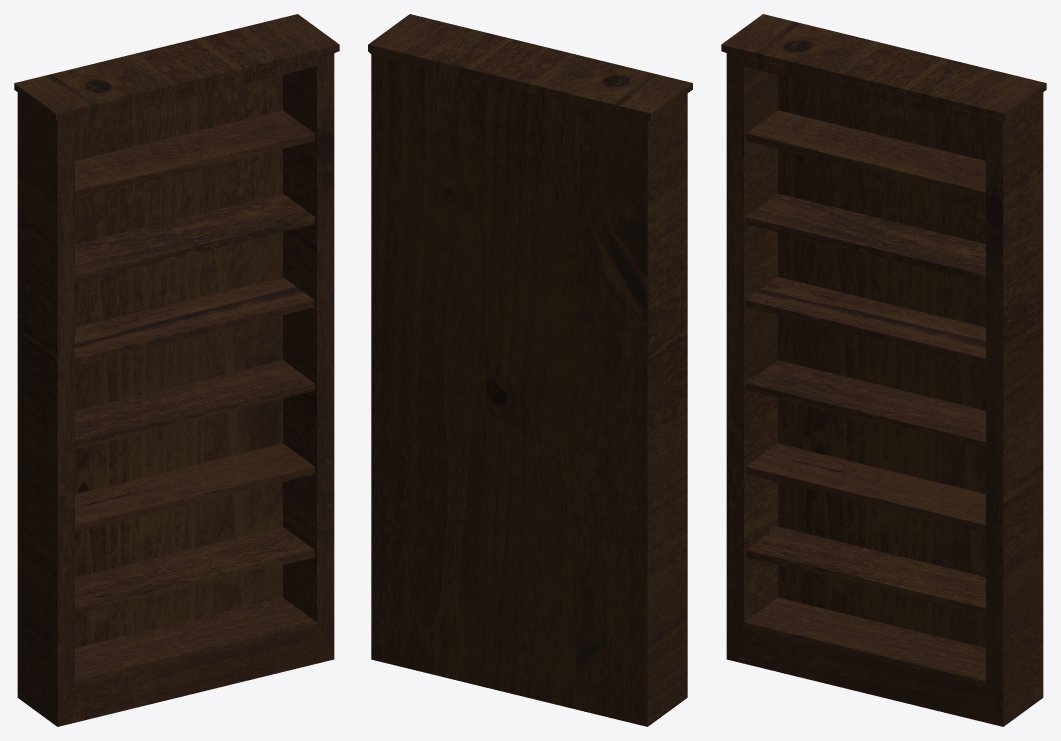
The model's file is shelf_wooden_01.glb.
3 renders of one model, left to right at view 1: azimuth 30°, elevation 25°; view 2: azimuth 150°, elevation 25°; view 3: azimuth 330°, elevation 25°, orthographic.
Parts seen in each view (by area): view 1: Shelf_01; view 2: Shelf_01; view 3: Shelf_01.
Part boxes in pixels (bbox=[...]): Shelf_01: bbox=[14, 14, 339, 726]; Shelf_01: bbox=[368, 14, 692, 726]; Shelf_01: bbox=[721, 14, 1046, 726].
Size of the model in its own units: 1 by 2.08 by 0.257.
1 material, 1 textured.
